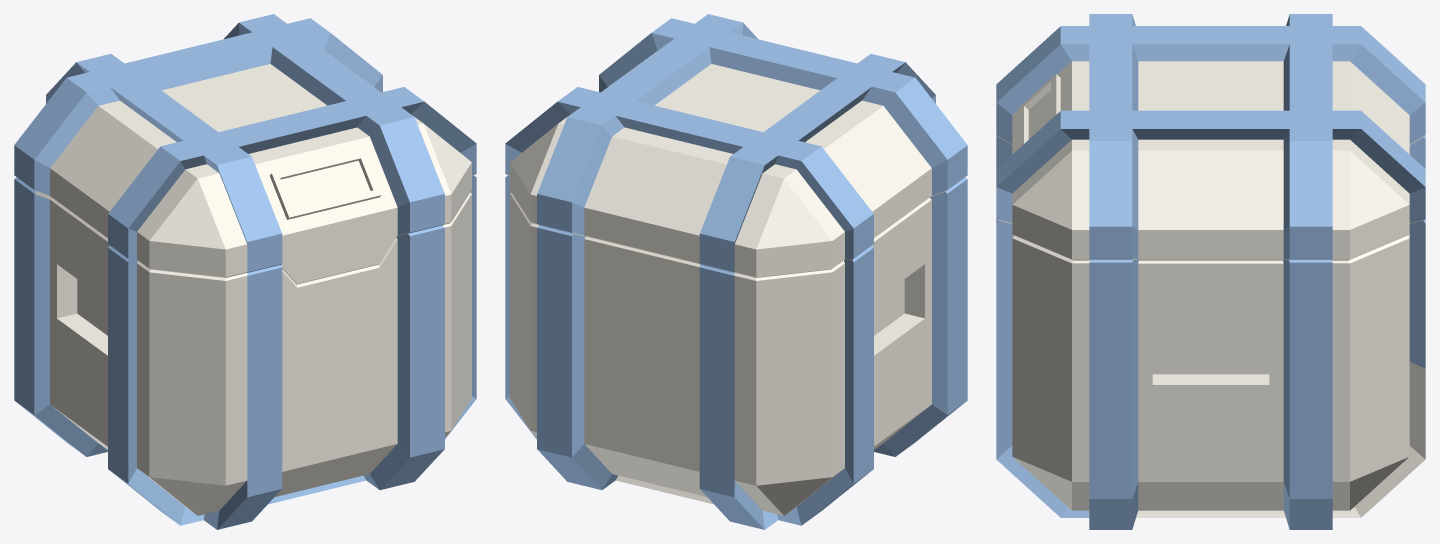
Rendered from tool crate.fbx.
3 views of the same model, side by side, from view 1: azimuth 30°, elevation 25°; view 2: azimuth 150°, elevation 25°; view 3: azimuth 270°, elevation 25° (orthographic). The views are drawn at different scales.
Parts seen in each view (by area): view 1: Cube; view 2: Cube; view 3: Cube.
Part boxes in pixels (box(x1,y1,x2,y2)): Cube: box(14, 14, 476, 529); Cube: box(505, 14, 967, 529); Cube: box(996, 14, 1425, 529).
Bounding box in the file's own units: 27.78 × 27.78 × 27.78.
